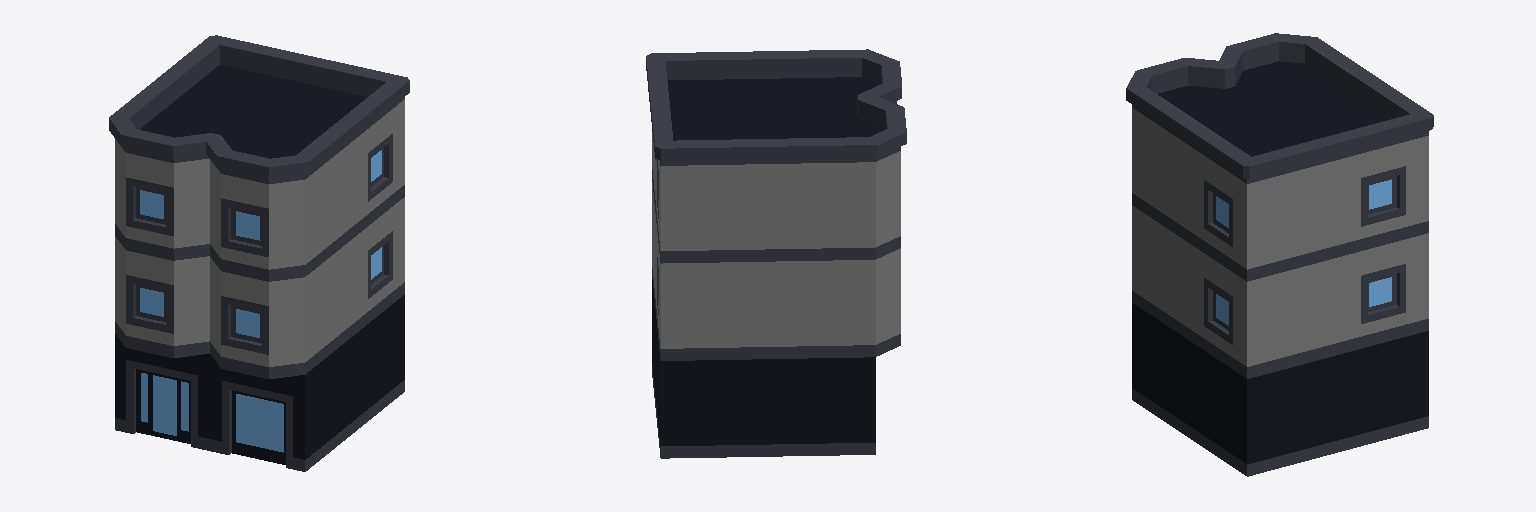
File: variant_17.obj
The picture shows the model from 3 angles: view 1: azimuth 30°, elevation 25°; view 2: azimuth 150°, elevation 25°; view 3: azimuth 270°, elevation 25°; orthographic projection.
Visible parts, largest first — view 1: small_buildingA; view 2: small_buildingA; view 3: small_buildingA.
Part boxes in pixels (x1,y1,x2,y2): small_buildingA: (109,35,409,471); small_buildingA: (646,49,906,458); small_buildingA: (1126,33,1433,476).
Size of the model in its own units: 1.17 by 1.28 by 1.14.